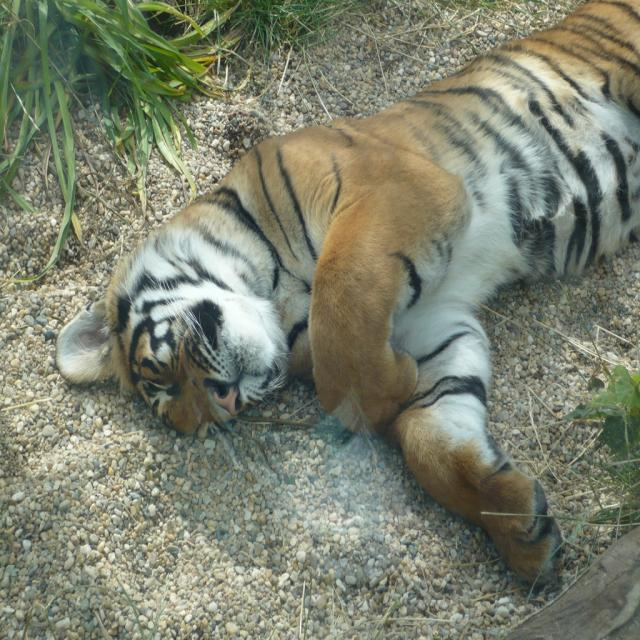Tiger: (54, 0, 640, 589)
